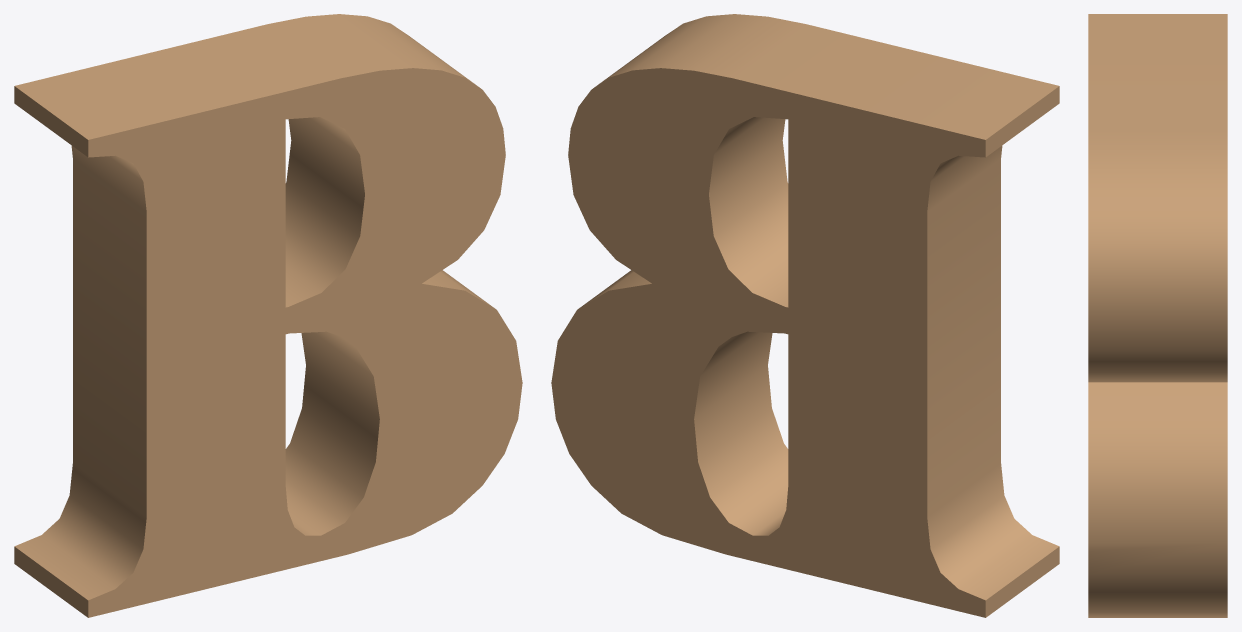
The model's file is original-8.obj.
3 views of the same model, side by side, from view 1: azimuth 30°, elevation 25°; view 2: azimuth 150°, elevation 25°; view 3: azimuth 270°, elevation 25° (orthographic). The views are drawn at different scales.
Visible parts, largest first — view 1: mesh4/mesh4-geometry#mesh4-geometry; view 2: mesh4/mesh4-geometry#mesh4-geometry; view 3: mesh4/mesh4-geometry#mesh4-geometry.
Boxes of the visible parts, x1,y1,x2,y2 form: mesh4/mesh4-geometry#mesh4-geometry: (14,14,522,617); mesh4/mesh4-geometry#mesh4-geometry: (551,14,1059,617); mesh4/mesh4-geometry#mesh4-geometry: (1088,14,1227,617).
Bounding box in the file's own units: 0.0111 × 0.0117 × 0.00327.
